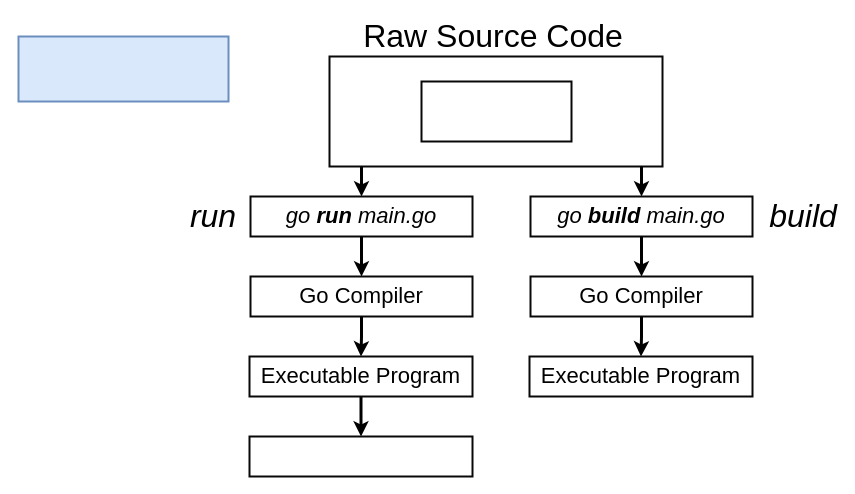
The diagram is 855 pixels wide and 494 high, and some of its shapes have lost their labels. Here are the shapes that lost their labels. From the top down, the box of each, then its label:
(17, 35, 229, 102): How do we run the code in our project?
(420, 80, 572, 142): main.go
(248, 435, 473, 477): Runs the program
